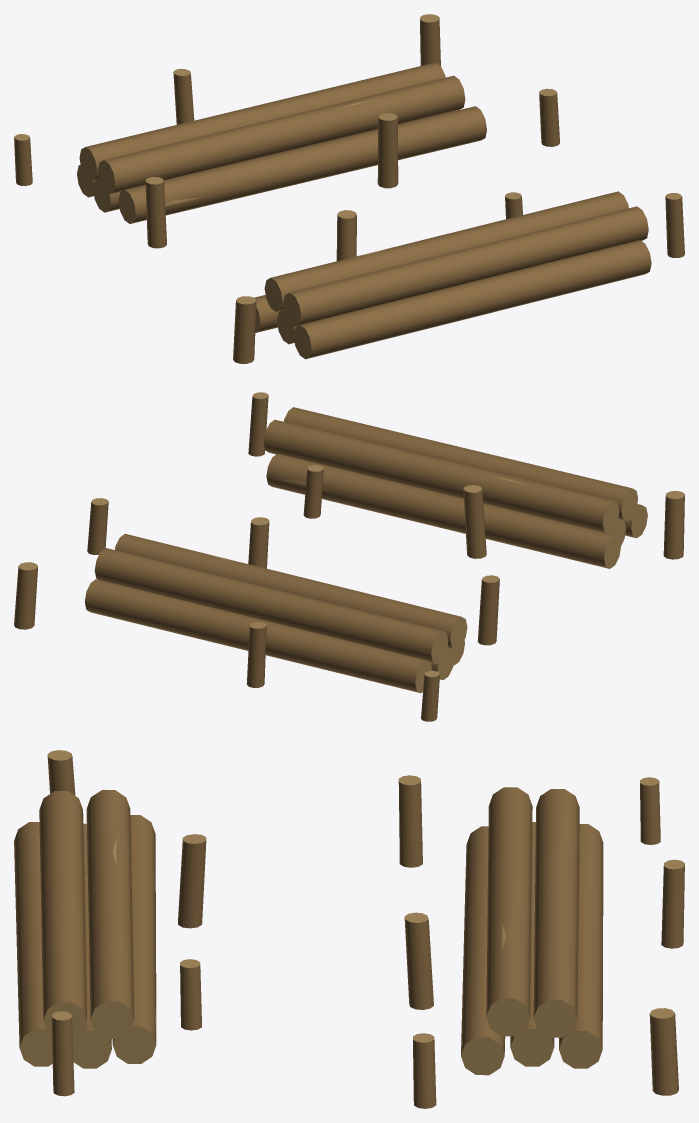
File: Resource_PineTree_Group_Cut.glb
The picture shows the model from 3 angles, top to bottom: view 1: azimuth 30°, elevation 25°; view 2: azimuth 150°, elevation 25°; view 3: azimuth 270°, elevation 25°; orthographic projection. The views are drawn at different scales.
Parts seen in each view (by area): view 1: Resource_PineTree_Group_Cut; view 2: Resource_PineTree_Group_Cut; view 3: Resource_PineTree_Group_Cut.
Boxes of the visible parts, x1,y1,x2,y2 form: Resource_PineTree_Group_Cut: (14,14,684,363); Resource_PineTree_Group_Cut: (14,392,684,721); Resource_PineTree_Group_Cut: (14,750,684,1108).
Bounding box in the file's own units: 1.49 × 0.2116 × 1.48.
